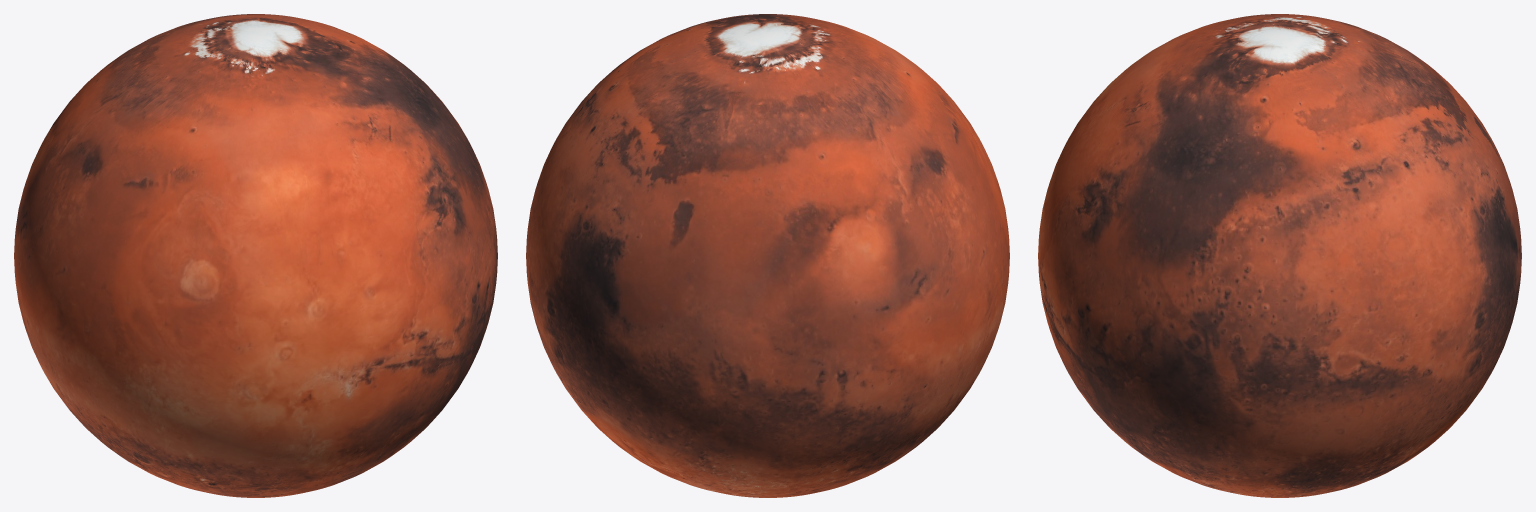
The model's file is mars.glb.
3 renders of one model, left to right at view 1: azimuth 30°, elevation 25°; view 2: azimuth 150°, elevation 25°; view 3: azimuth 270°, elevation 25°, orthographic.
Size of the model in its own units: 2 by 2 by 2.
Materials: 1 (1 with a texture image).
